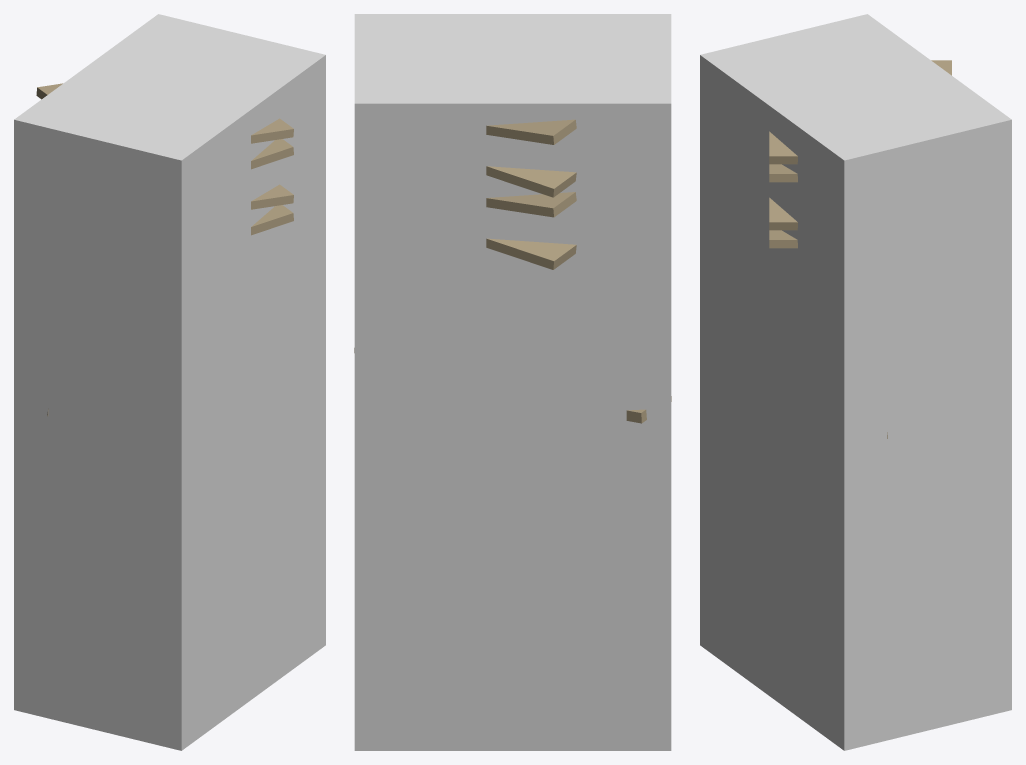
Rendered from desert_mummy.fbx.
The picture shows the model from 3 angles, left to right: view 1: azimuth 30°, elevation 25°; view 2: azimuth 150°, elevation 25°; view 3: azimuth 270°, elevation 25°; orthographic projection. The views are drawn at different scales.
Visible parts, largest first — view 1: Root__0.00_2.75_-0.05__2.44_5.50_1.63, Head__Torso__0.00_4.04_0.00; view 2: Root__0.00_2.75_-0.05__2.44_5.50_1.63, Head__Torso__0.00_4.04_0.00; view 3: Root__0.00_2.75_-0.05__2.44_5.50_1.63, Head__Torso__0.00_4.04_0.00.
Part boxes in pixels (box(x1,y1,x2,y2)): Root__0.00_2.75_-0.05__2.44_5.50_1.63: box(14, 14, 325, 750); Head__Torso__0.00_4.04_0.00: box(36, 83, 293, 235); Root__0.00_2.75_-0.05__2.44_5.50_1.63: box(354, 14, 671, 750); Head__Torso__0.00_4.04_0.00: box(486, 119, 576, 269); Root__0.00_2.75_-0.05__2.44_5.50_1.63: box(700, 14, 1011, 750); Head__Torso__0.00_4.04_0.00: box(769, 60, 951, 248).
Size of the model in its own units: 81.99 by 155 by 73.75.
2 materials, 1 textured.
